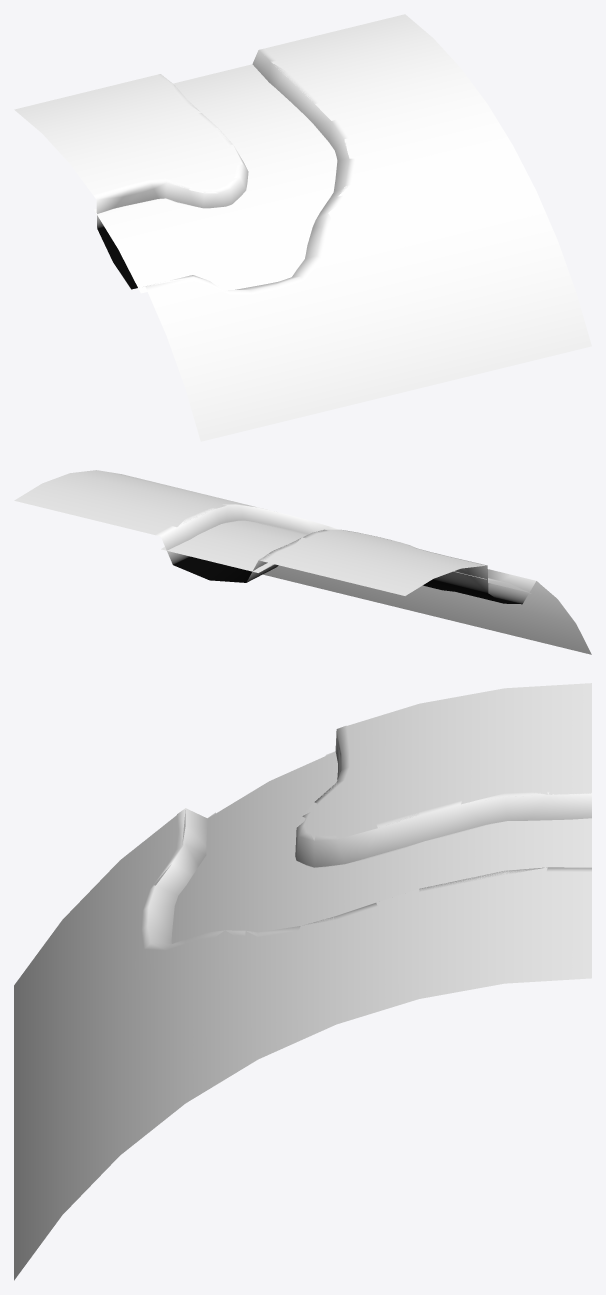
File: grd_Rsw_1.dae
The picture shows the model from 3 angles, top to bottom: view 1: azimuth 30°, elevation 25°; view 2: azimuth 150°, elevation 25°; view 3: azimuth 270°, elevation 25°; orthographic projection. The views are drawn at different scales.
Parts seen in each view (by area): view 1: grd_Rsw_1; view 2: grd_Rsw_1; view 3: grd_Rsw_1.
Boxes of the visible parts, x1,y1,x2,y2 form: grd_Rsw_1: [14, 14, 591, 441]; grd_Rsw_1: [14, 470, 591, 654]; grd_Rsw_1: [14, 683, 591, 1280].
Bounding box in the file's own units: 512 × 244 × 423.
4 materials, 1 textured.
